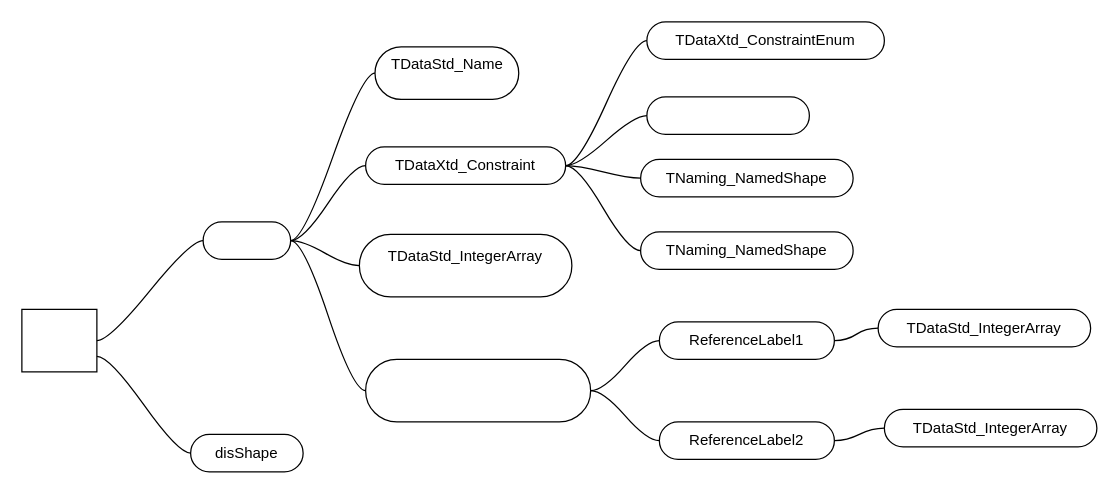
This 1119x494 diagram has some shape labels left out. The box of each missing label's shape, as (x1, y1, x2, y2) in pixels:
Constraint: (21, 308, 97, 372)
Label: (202, 221, 291, 259)
TDataStd_Real: (646, 96, 809, 134)
TDataStd_ReferenceList: (364, 358, 591, 422)
